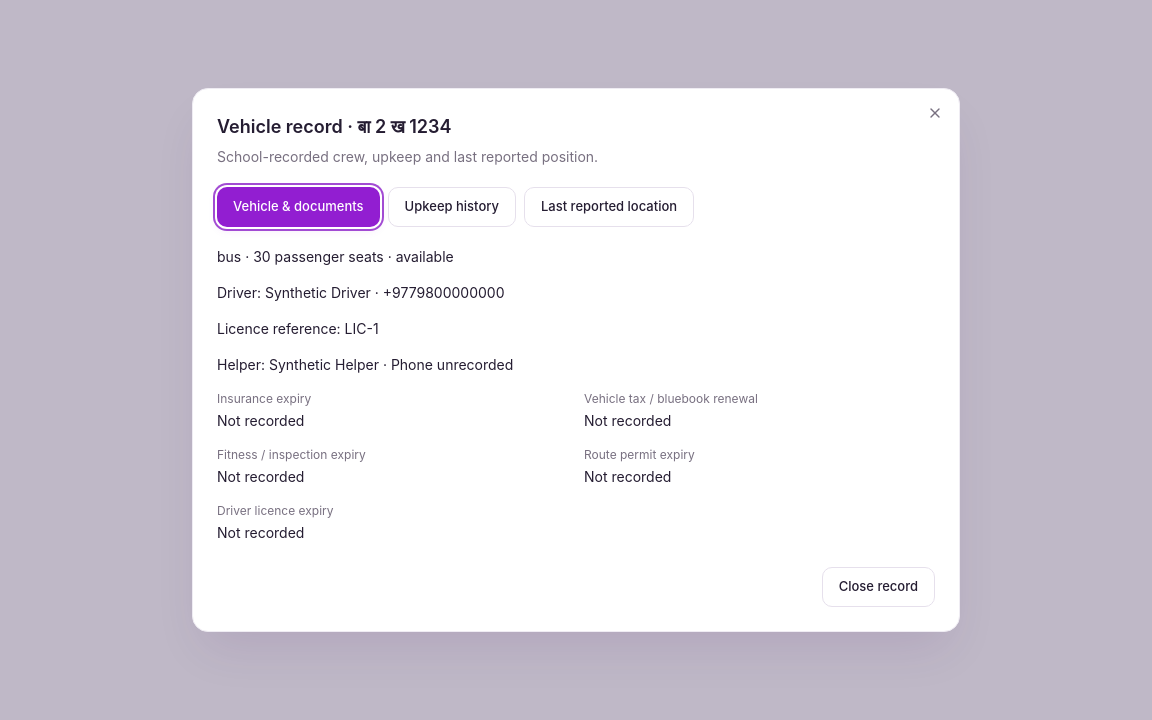
Test case: a stale coordinate is labelled as a past report, with a map link rather than a live ETA
The image size is (1152, 720).
expect the text "Licence reference: LIC-1" is shown: met, box [217,320,379,337]
Click the button "Last reported location". click: (609, 207)
box: [524,187,694,227]
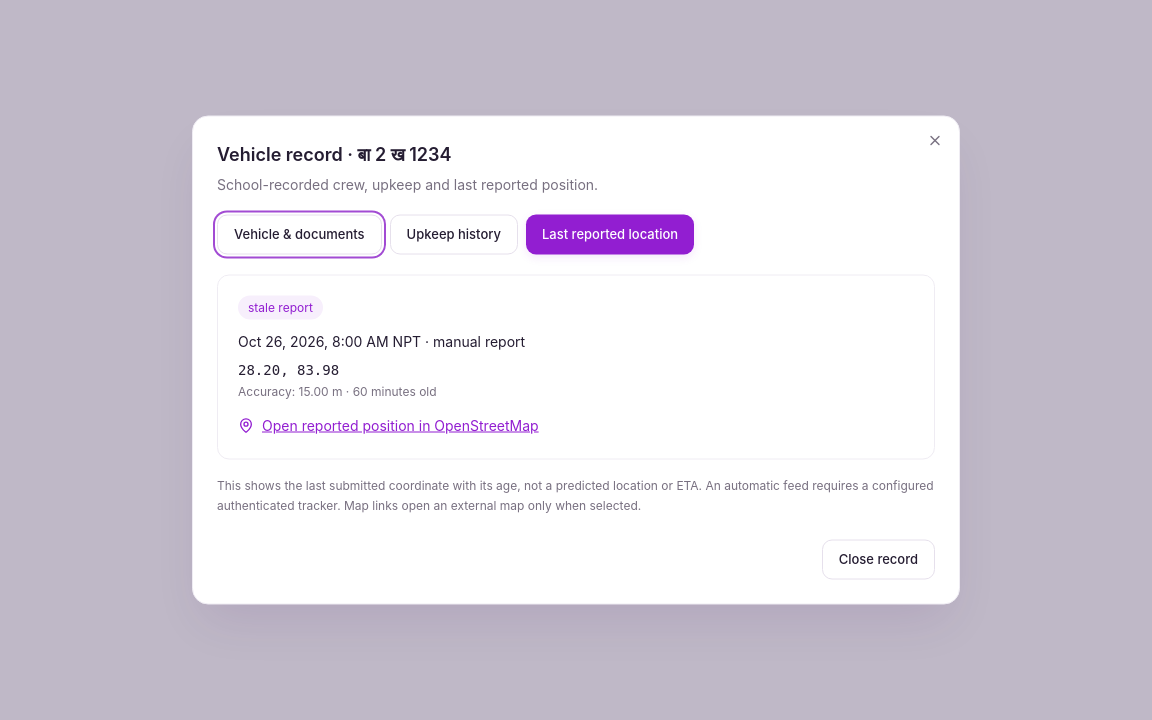
expect the text "stale report" is shown: met, box [238,296,323,320]
expect the link "Open reported position in OpenStreetMap" is shown: met, box [238,416,539,436]
